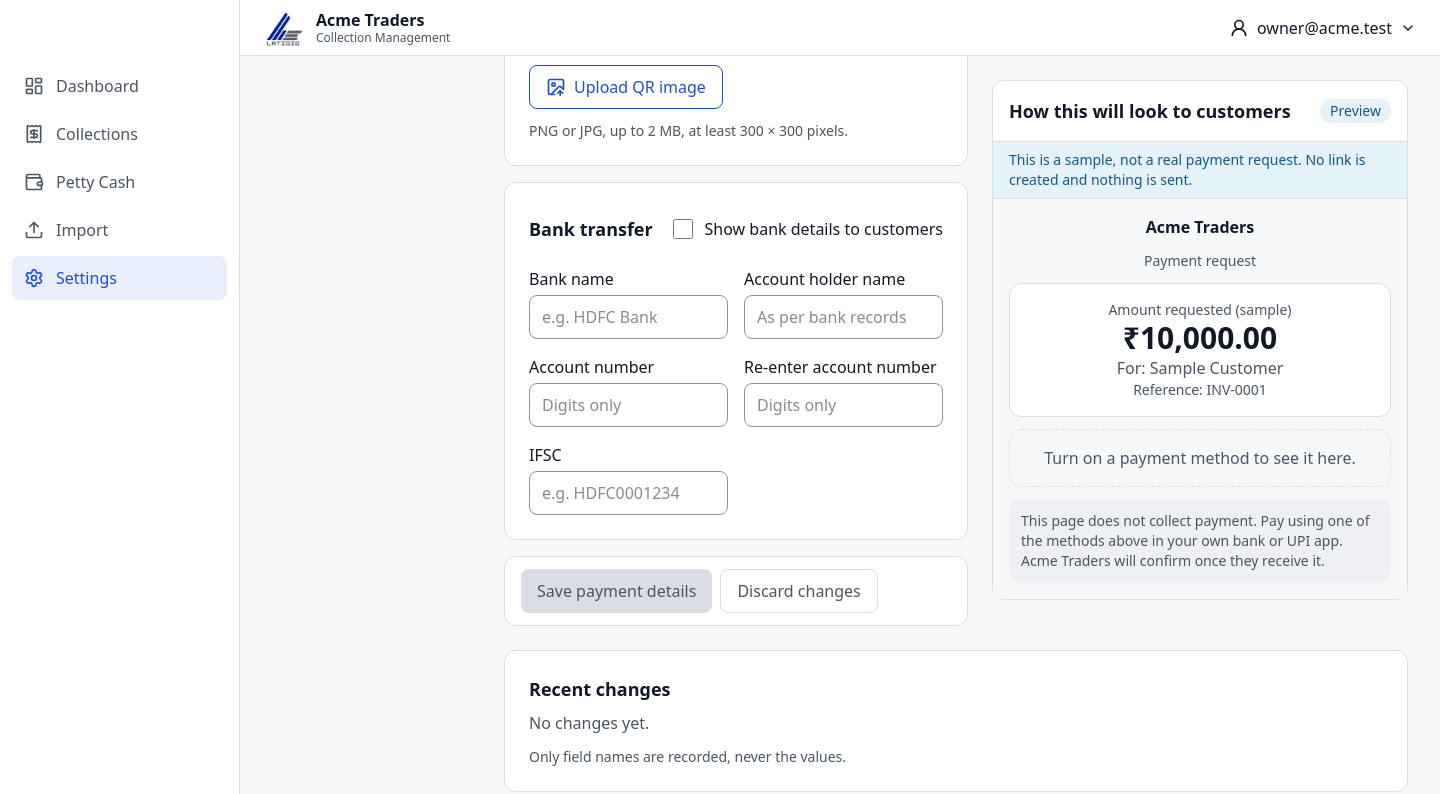
Test: client-side validation › Account number: 123 -> Account number must be 9 to 18 digits
The width and height of the screenshot is (1440, 794).
(page scrolled)
Type "123" into the field labelled "Account number" at (628, 405), box [529,383,728,427]
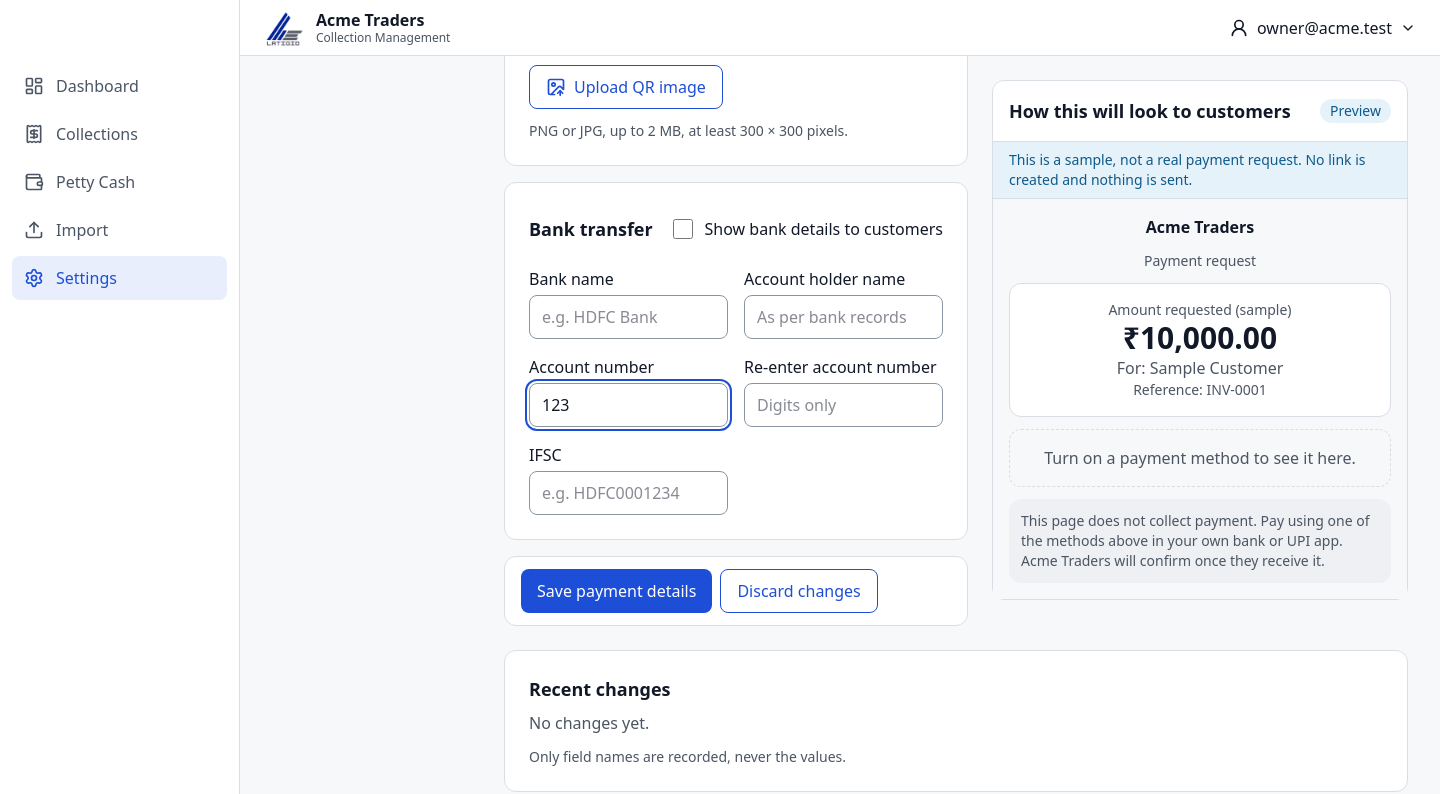
Click the button "Save payment details" at (617, 591), box [521,569,712,613]
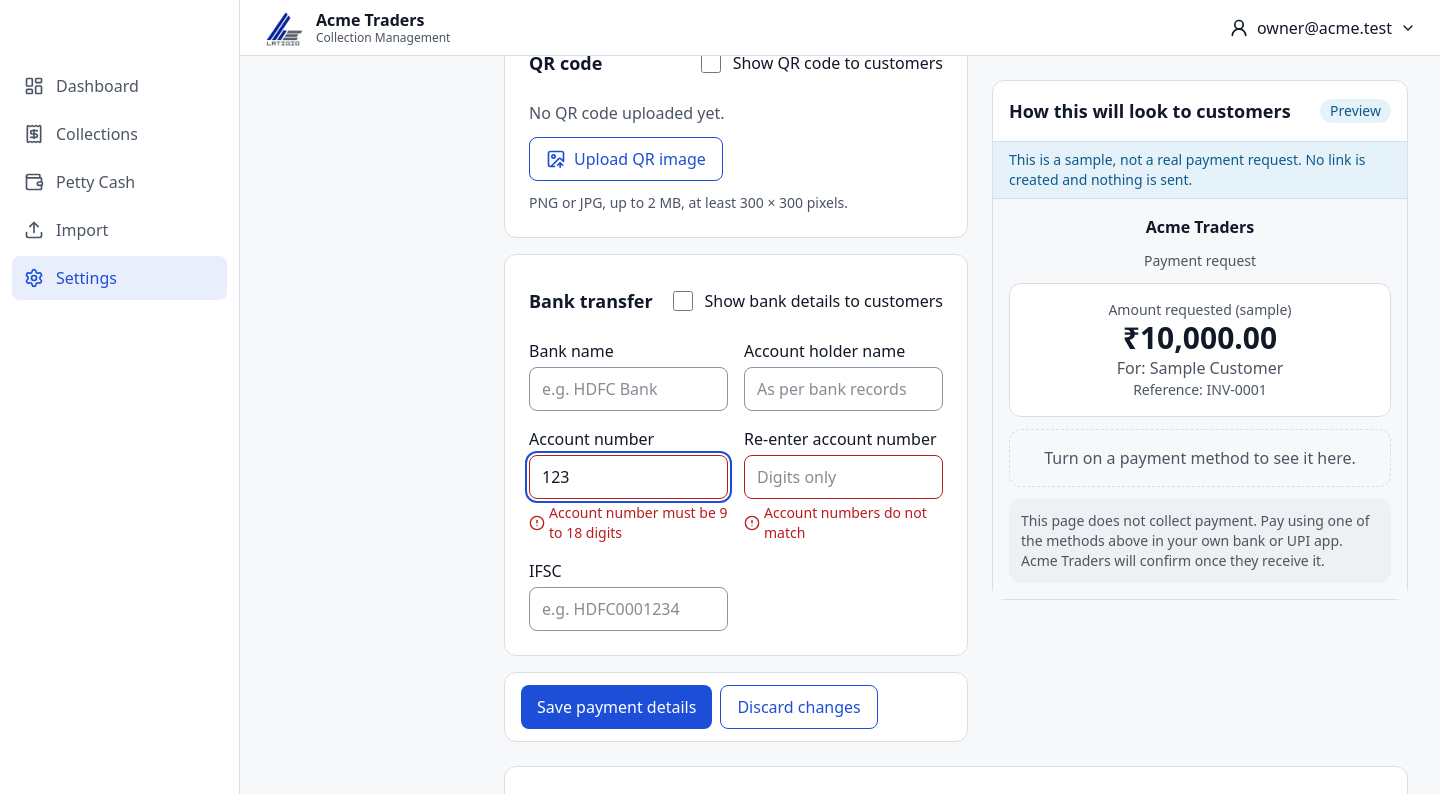
Expected: the text "Account number must be 9 to 18 digits" is shown, [529,503,728,543]
